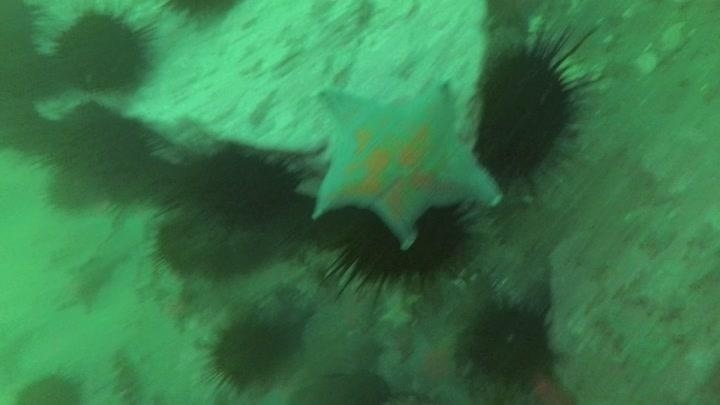echinus: (472, 30, 598, 184), (316, 205, 474, 298), (35, 100, 162, 211), (178, 142, 302, 233), (458, 296, 559, 390), (52, 8, 157, 97), (202, 309, 295, 394), (392, 204, 473, 282), (150, 209, 233, 278), (1, 1, 51, 70), (13, 367, 87, 405), (156, 1, 244, 31), (1, 106, 46, 154), (1, 63, 46, 111)
holothurian: (92, 347, 145, 405), (157, 1, 246, 31)
starfish: (302, 76, 503, 249), (399, 324, 474, 403), (51, 253, 118, 315)
